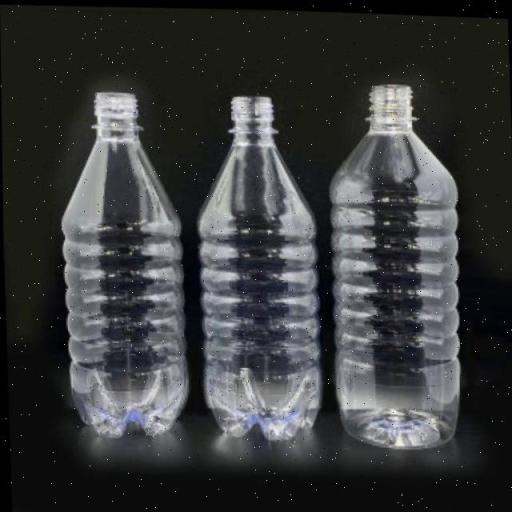plastic: (326, 80, 464, 449), (58, 87, 189, 442), (195, 92, 320, 442)
